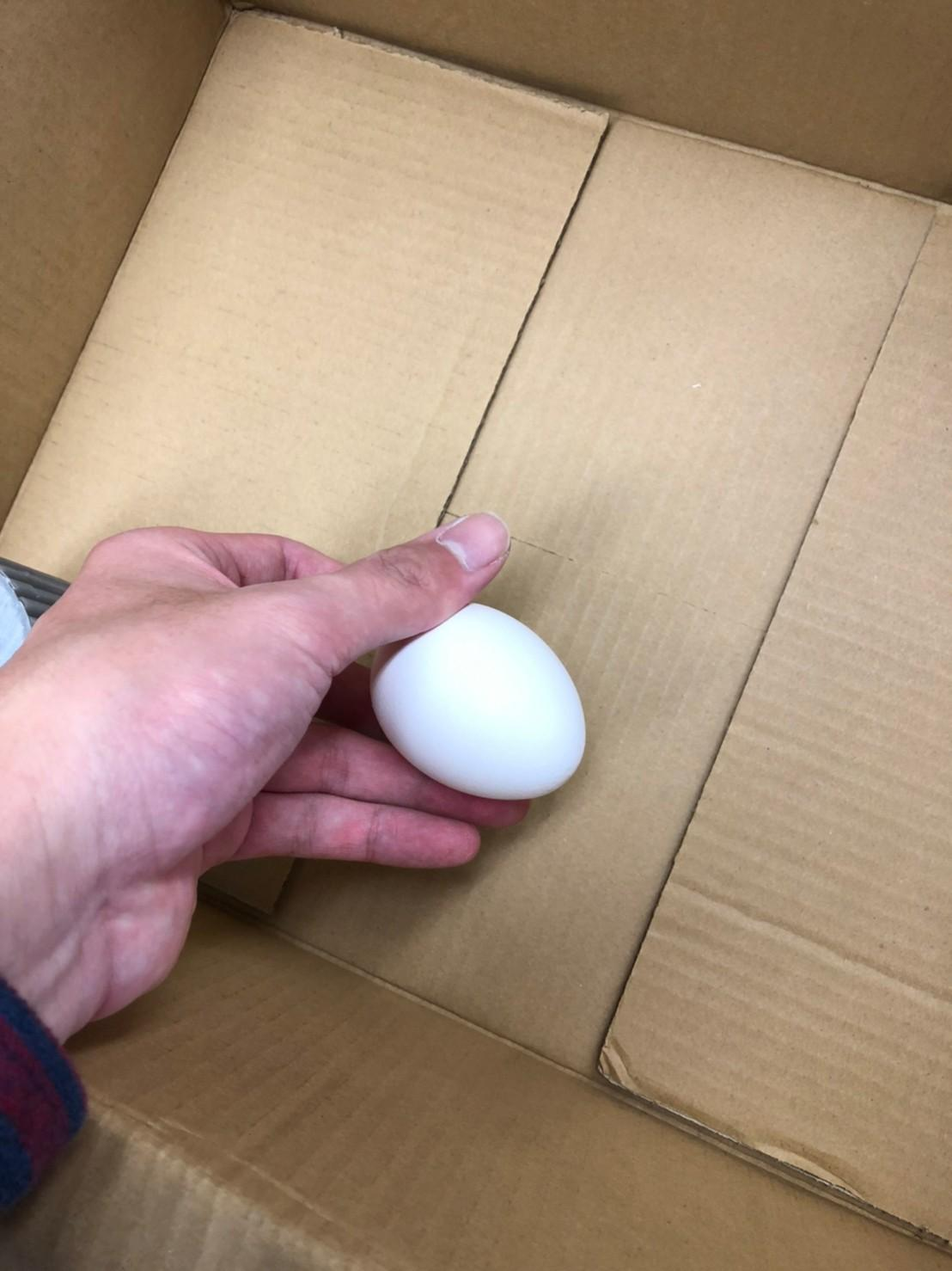egg: (360, 593, 588, 806)
